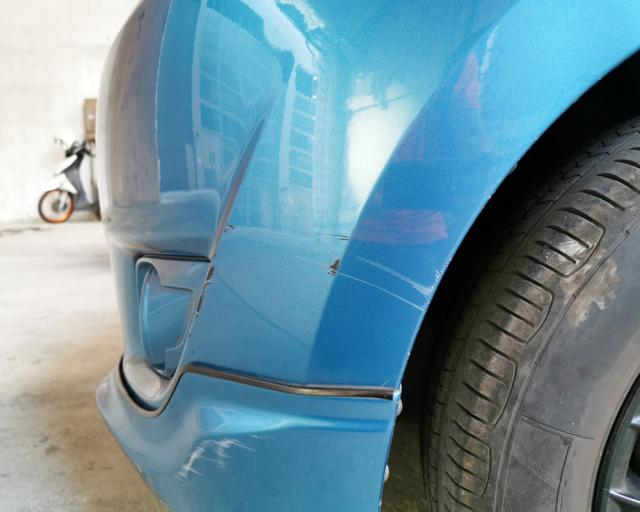scratch: (187, 221, 449, 334), (170, 433, 282, 488)
